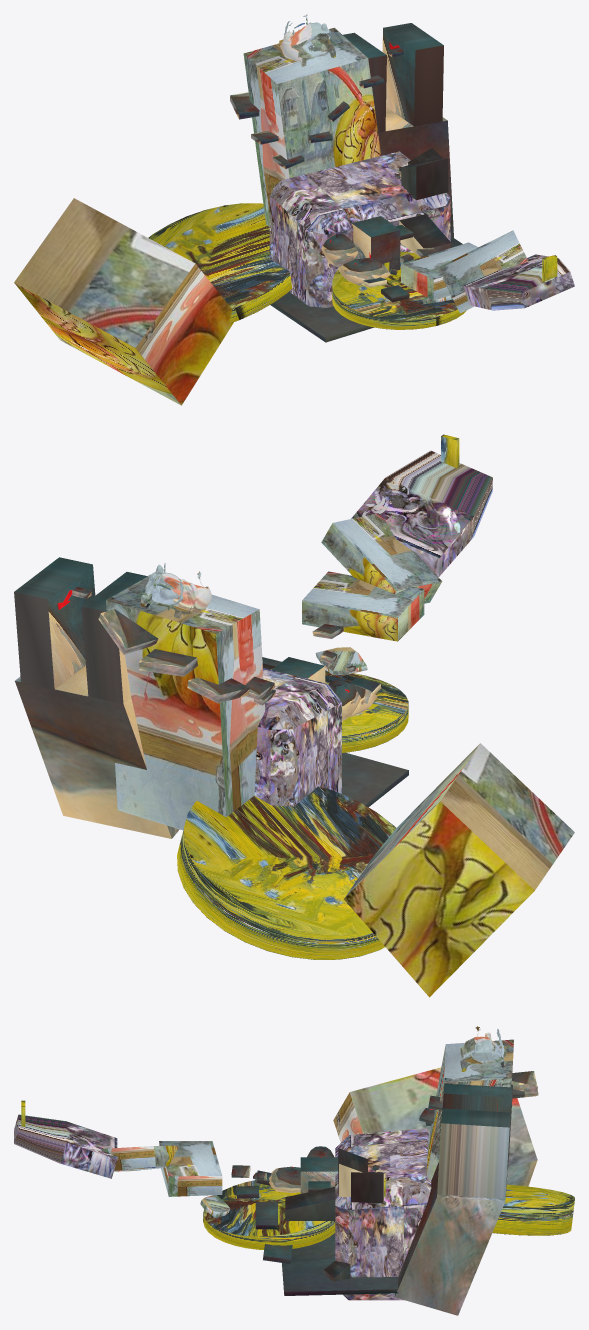
The model's file is level_1.glb.
3 renders of one model, top to bottom at view 1: azimuth 30°, elevation 25°; view 2: azimuth 150°, elevation 25°; view 3: azimuth 270°, elevation 25°, orthographic. The views are drawn at different scales.
Visible parts, largest first — view 1: Cube.019, Cube.002, Cube.001, Cylinder.001, Cube.014, Cylinder, Cube.040, Cube.039, Cube.011, Cube.012, Cube.038, Cube.016 (+7 smaller); view 2: Cube.019, Cylinder.001, Cube.002, Cube.011, Cube.001, Cube.040, Cube.014, Cube.038, Cube.039, Cube.013, Cylinder, Cube.012 (+7 smaller); view 3: Cube.001, Cube.011, Cube.019, Cube.014, Cylinder, Cube.040, Cube.012, Cylinder.001, Cube.002, Cube.038, Cube.013, Cube.009 (+11 smaller).
Part boxes in pixels (left/top/right/bottom): Cube.019: left=14, top=198, right=233, bottom=405; Cube.002: left=243, top=27, right=380, bottom=226; Cube.001: left=269, top=151, right=450, bottom=307; Cylinder.001: left=148, top=203, right=292, bottom=323; Cube.014: left=382, top=23, right=443, bottom=126; Cylinder: left=332, top=252, right=466, bottom=329; Cube.040: left=463, top=254, right=574, bottom=310; Cube.039: left=437, top=230, right=528, bottom=313; Cube.011: left=378, top=107, right=453, bottom=238; Cube.012: left=270, top=238, right=462, bottom=342; Cube.038: left=401, top=242, right=478, bottom=300; Cube.016: left=351, top=216, right=400, bottom=263; Cube.019: left=344, top=743, right=574, bottom=997; Cylinder.001: left=177, top=786, right=395, bottom=959; Cube.002: left=106, top=577, right=265, bottom=830; Cube.011: left=15, top=665, right=179, bottom=838; Cube.001: left=254, top=668, right=341, bottom=806; Cube.040: left=351, top=450, right=492, bottom=576; Cube.014: left=14, top=557, right=95, bottom=689; Cube.038: left=302, top=571, right=424, bottom=641; Cube.039: left=321, top=513, right=442, bottom=603; Cube.013: left=81, top=572, right=147, bottom=703; Cylinder: left=325, top=670, right=408, bottom=752; Cube.012: left=342, top=753, right=408, bottom=807; Cube.001: left=335, top=1128, right=431, bottom=1300; Cube.011: left=394, top=1162, right=507, bottom=1315; Cube.019: left=333, top=1067, right=537, bottom=1186; Cube.014: left=437, top=1108, right=510, bottom=1198; Cylinder: left=203, top=1180, right=335, bottom=1249; Cube.040: left=14, top=1114, right=117, bottom=1178; Cube.012: left=282, top=1233, right=398, bottom=1295; Cylinder.001: left=492, top=1184, right=574, bottom=1235; Cube.002: left=426, top=1039, right=513, bottom=1180; Cube.038: left=159, top=1141, right=222, bottom=1196; Cube.013: left=442, top=1078, right=512, bottom=1168; Cube.009: left=285, top=1187, right=335, bottom=1220.
Bounding box in the file's own units: 228 × 158 × 272.
4 materials, 4 textured.
